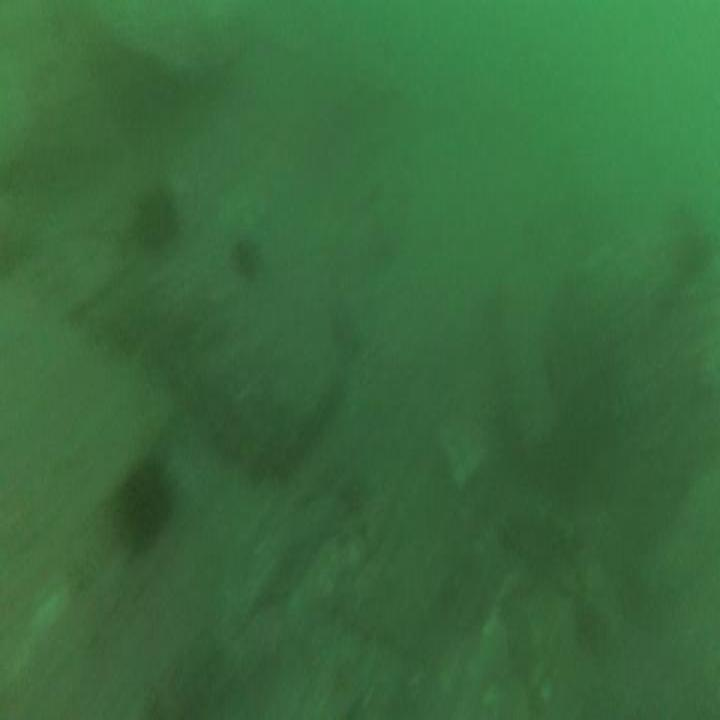echinus: (115, 466, 170, 540), (135, 194, 173, 250), (235, 240, 257, 277)
